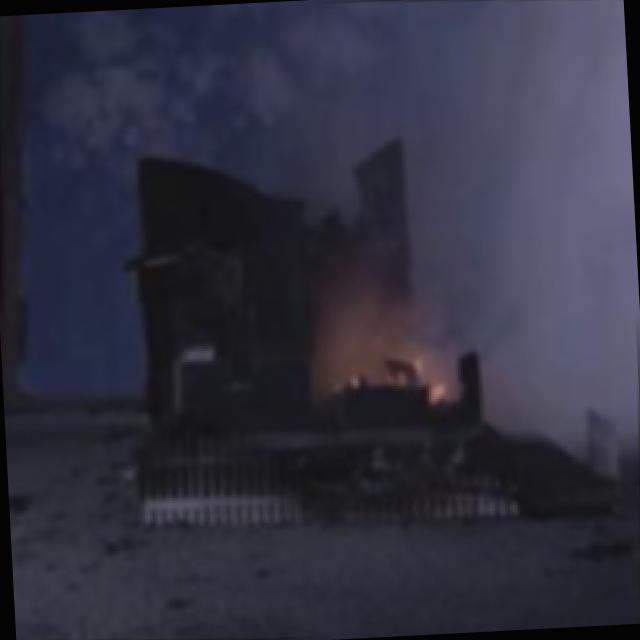smoke: (315, 0, 640, 370)
